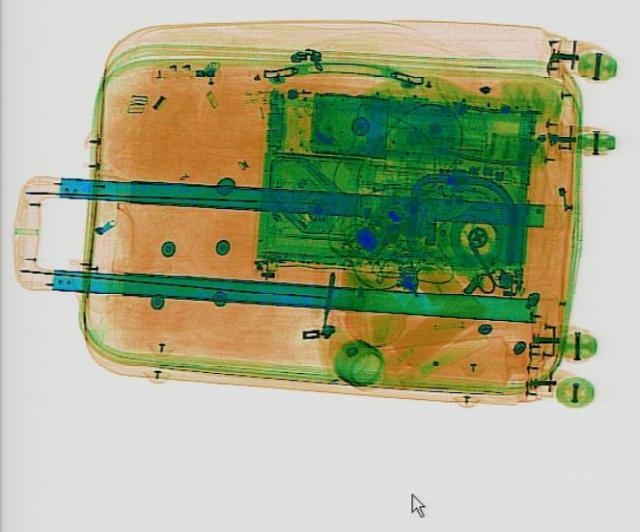Scissors: (448, 224, 516, 294)
